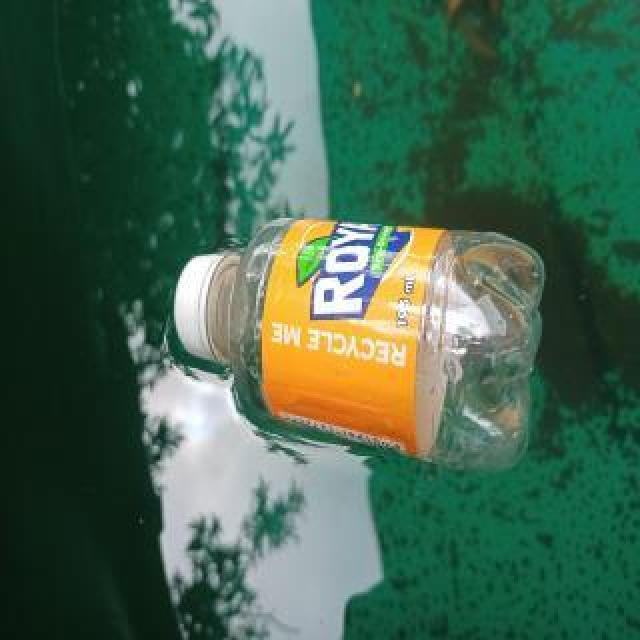bottle: (170, 207, 552, 483)
